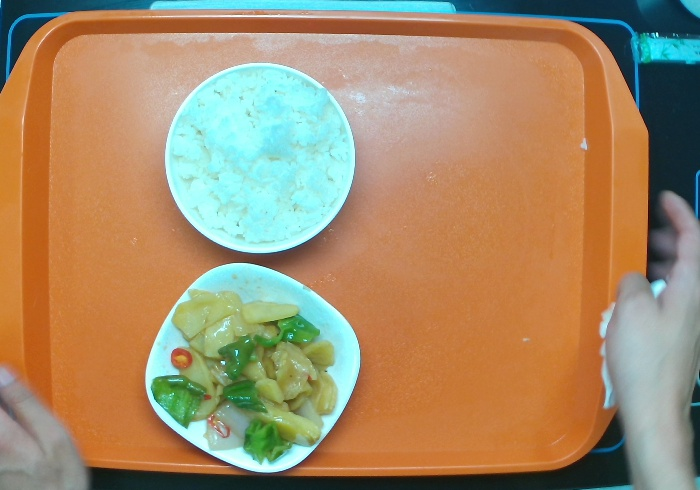ZNLD-Fan_Wan: (162, 60, 357, 255)
ZNLD-Si_Fang_Wan: (143, 260, 362, 474)
